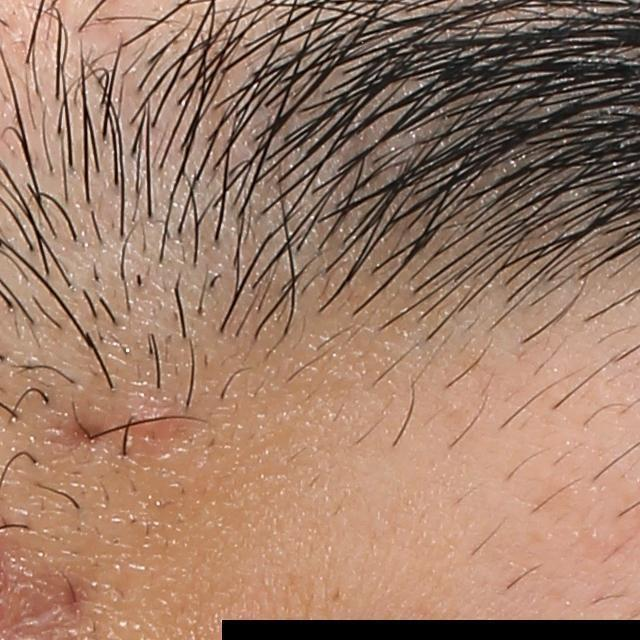papule: (117, 395, 183, 442)
